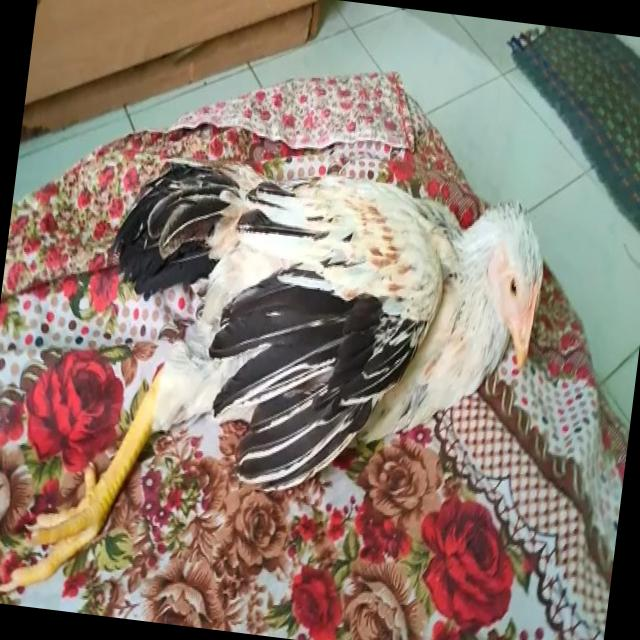leg stretching: (0, 68, 584, 640)
